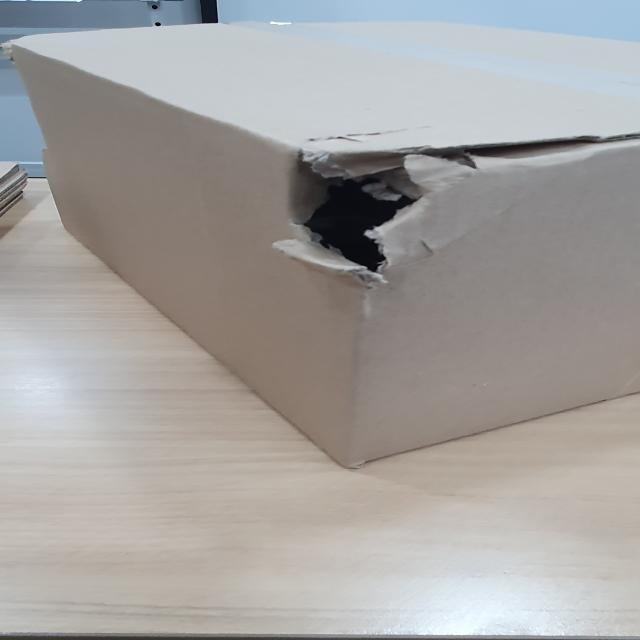hole: (280, 137, 601, 257)
